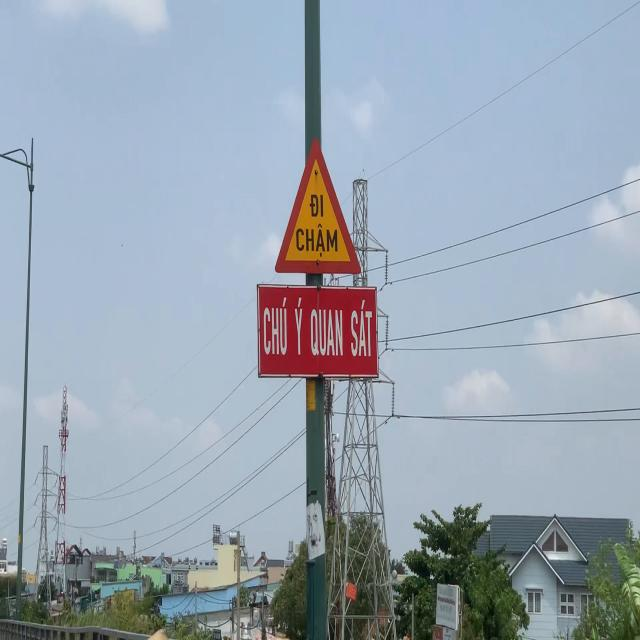Nguy hiem: (274, 135, 362, 276)
